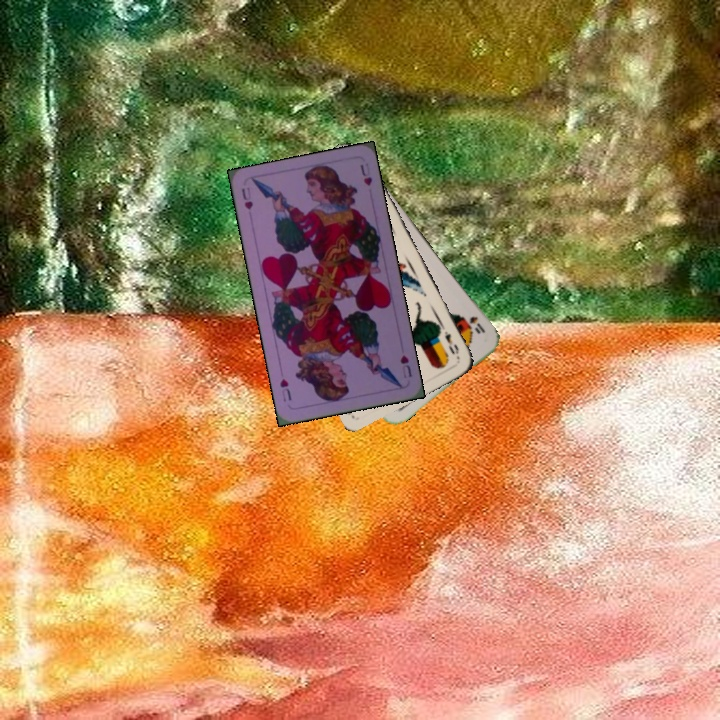EO: (440, 327, 462, 357)
HU: (396, 351, 414, 381), (237, 183, 255, 212)
SO: (458, 312, 488, 336)
